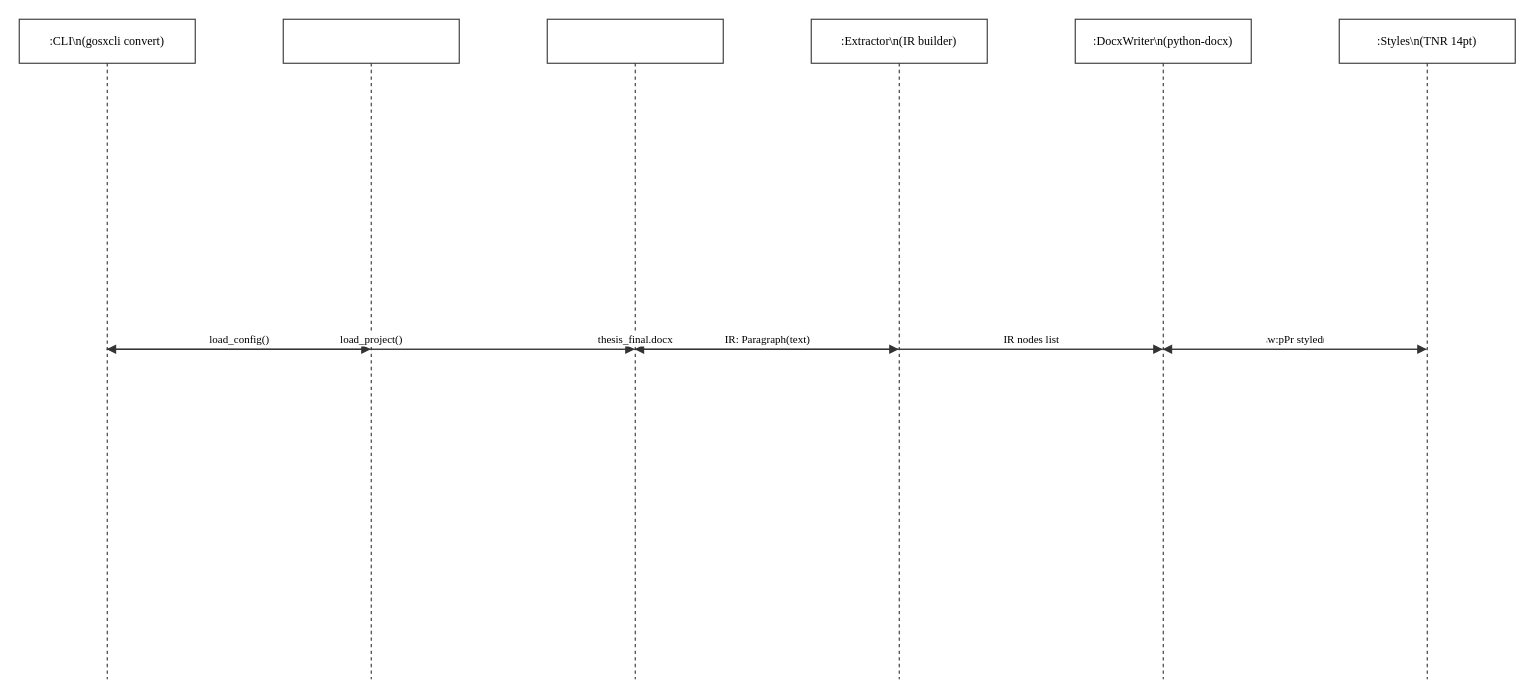
This 1535x699 diagram has some shape labels left out. The shapes that lost their labels are listed below. From the top down, each one's box as (x1, y1, x2, y2) in pixels, then its label:
(282, 18, 459, 679): :Config\n(Pydantic)
(546, 18, 723, 679): :ProjectLoader\n(Typst client)
